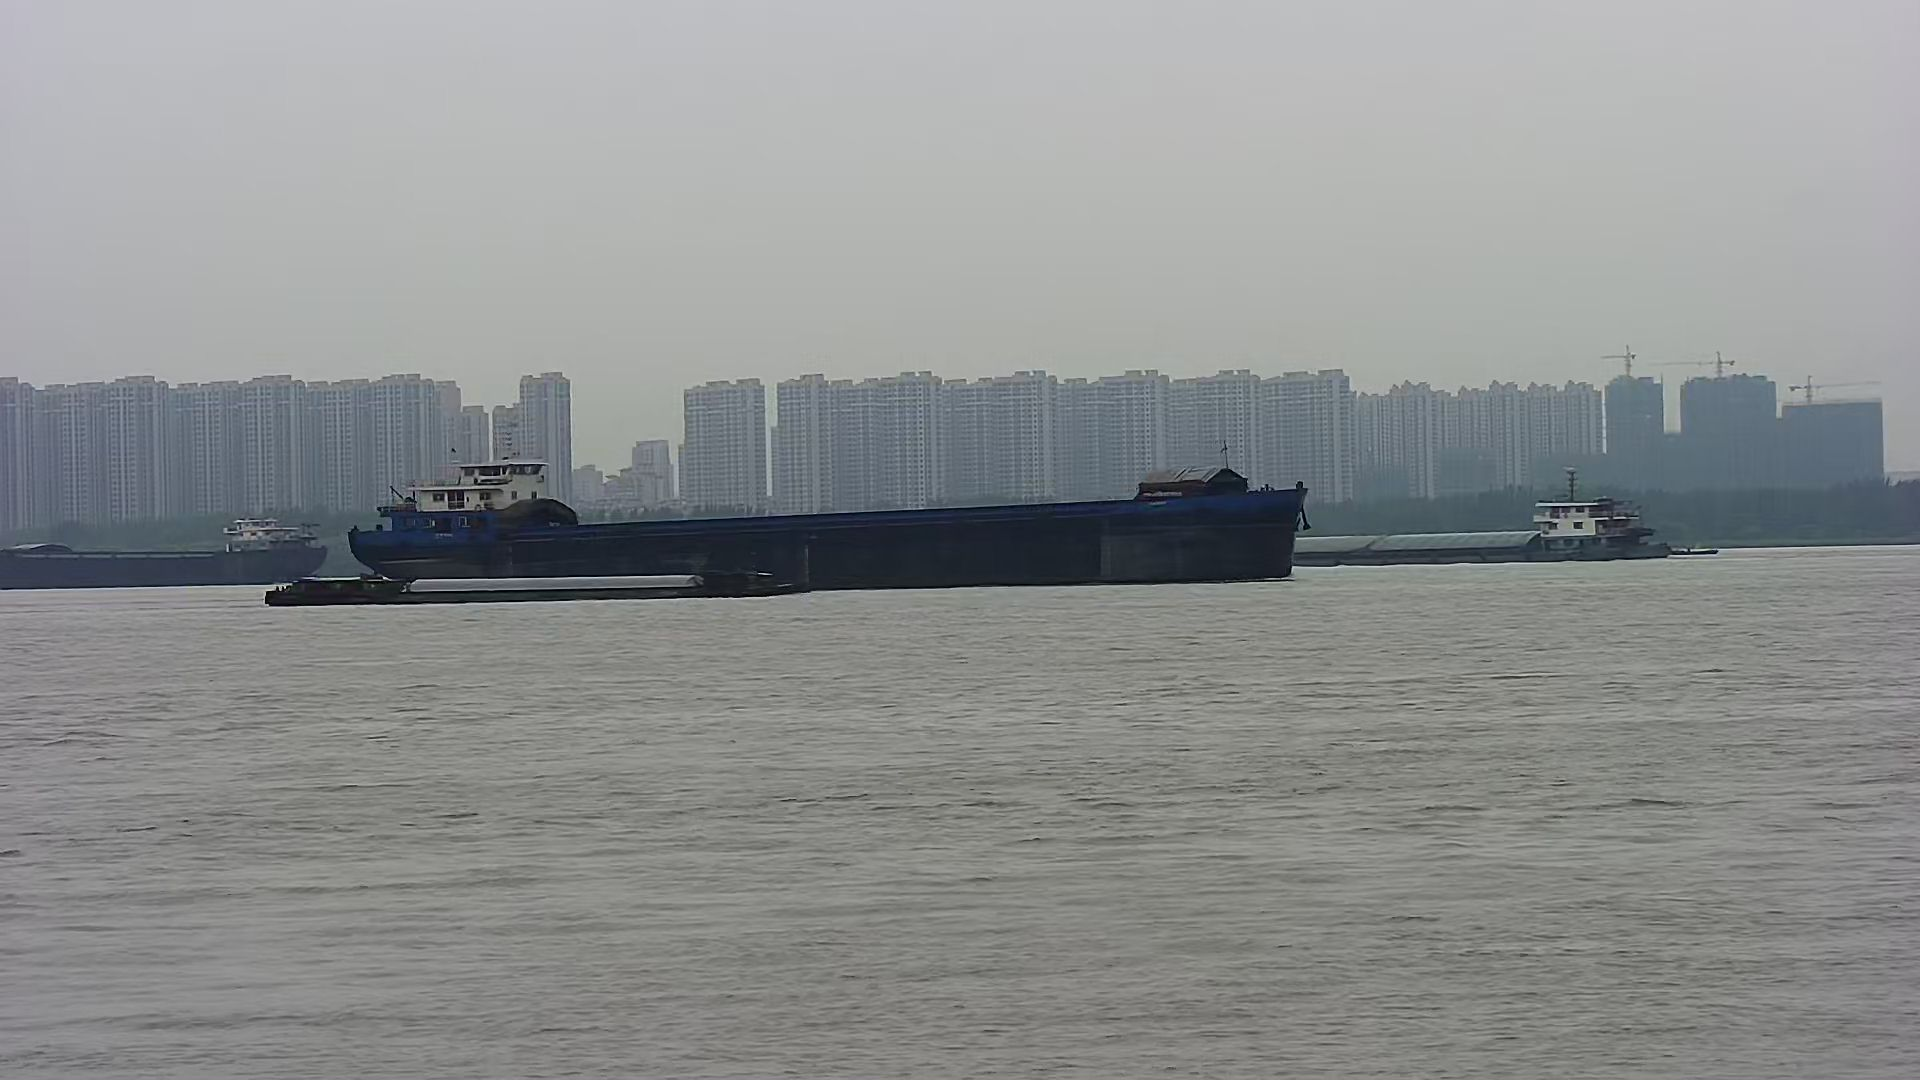boat: (1672, 541, 1721, 558)
ship: (345, 446, 1309, 591), (1295, 464, 1672, 560), (266, 560, 804, 607), (1, 513, 331, 587)
